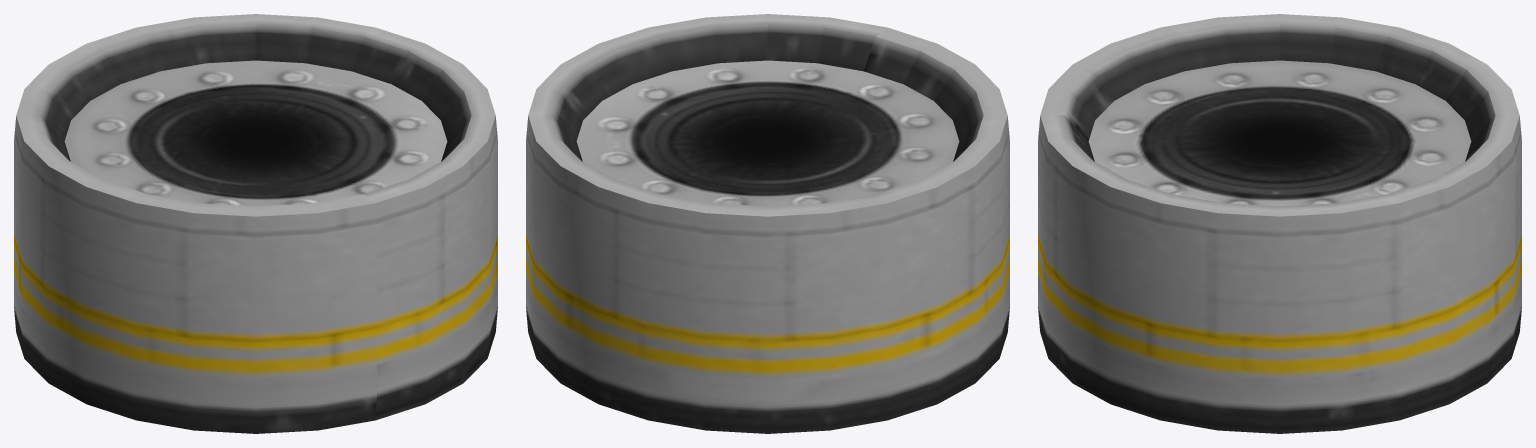
File: rcsTank.DAE
3 views of the same model, side by side, from view 1: azimuth 30°, elevation 25°; view 2: azimuth 150°, elevation 25°; view 3: azimuth 270°, elevation 25° (orthographic).
Parts seen in each view (by area): view 1: RCS_fueltank; view 2: RCS_fueltank; view 3: RCS_fueltank.
Boxes of the visible parts, x1,y1,x2,y2 form: RCS_fueltank: [14, 14, 497, 433]; RCS_fueltank: [526, 14, 1009, 433]; RCS_fueltank: [1038, 14, 1521, 433].
Size of what is drawn, in the model's own units: 1.01 by 0.5 by 1.01.
